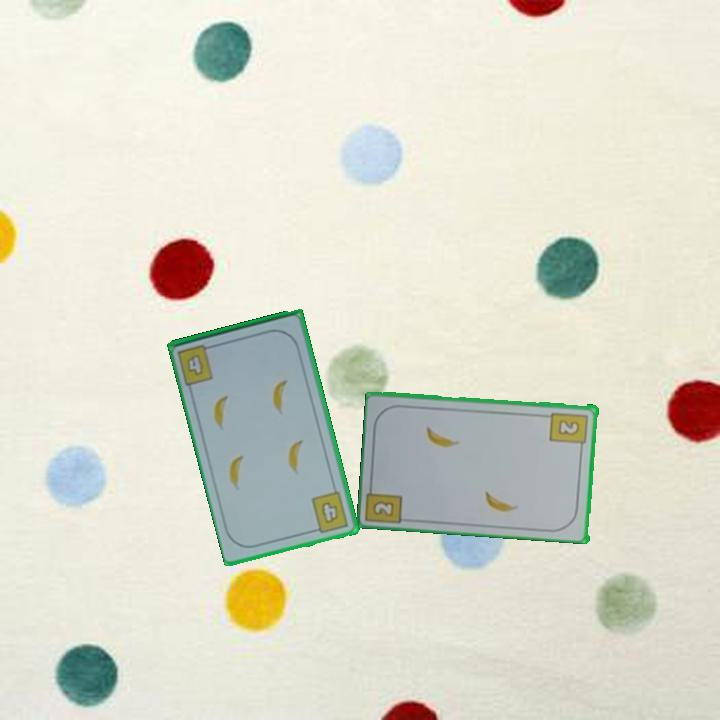2b: (547, 408, 591, 452), (370, 497, 397, 519)
4b: (174, 341, 218, 388), (308, 488, 351, 536)
